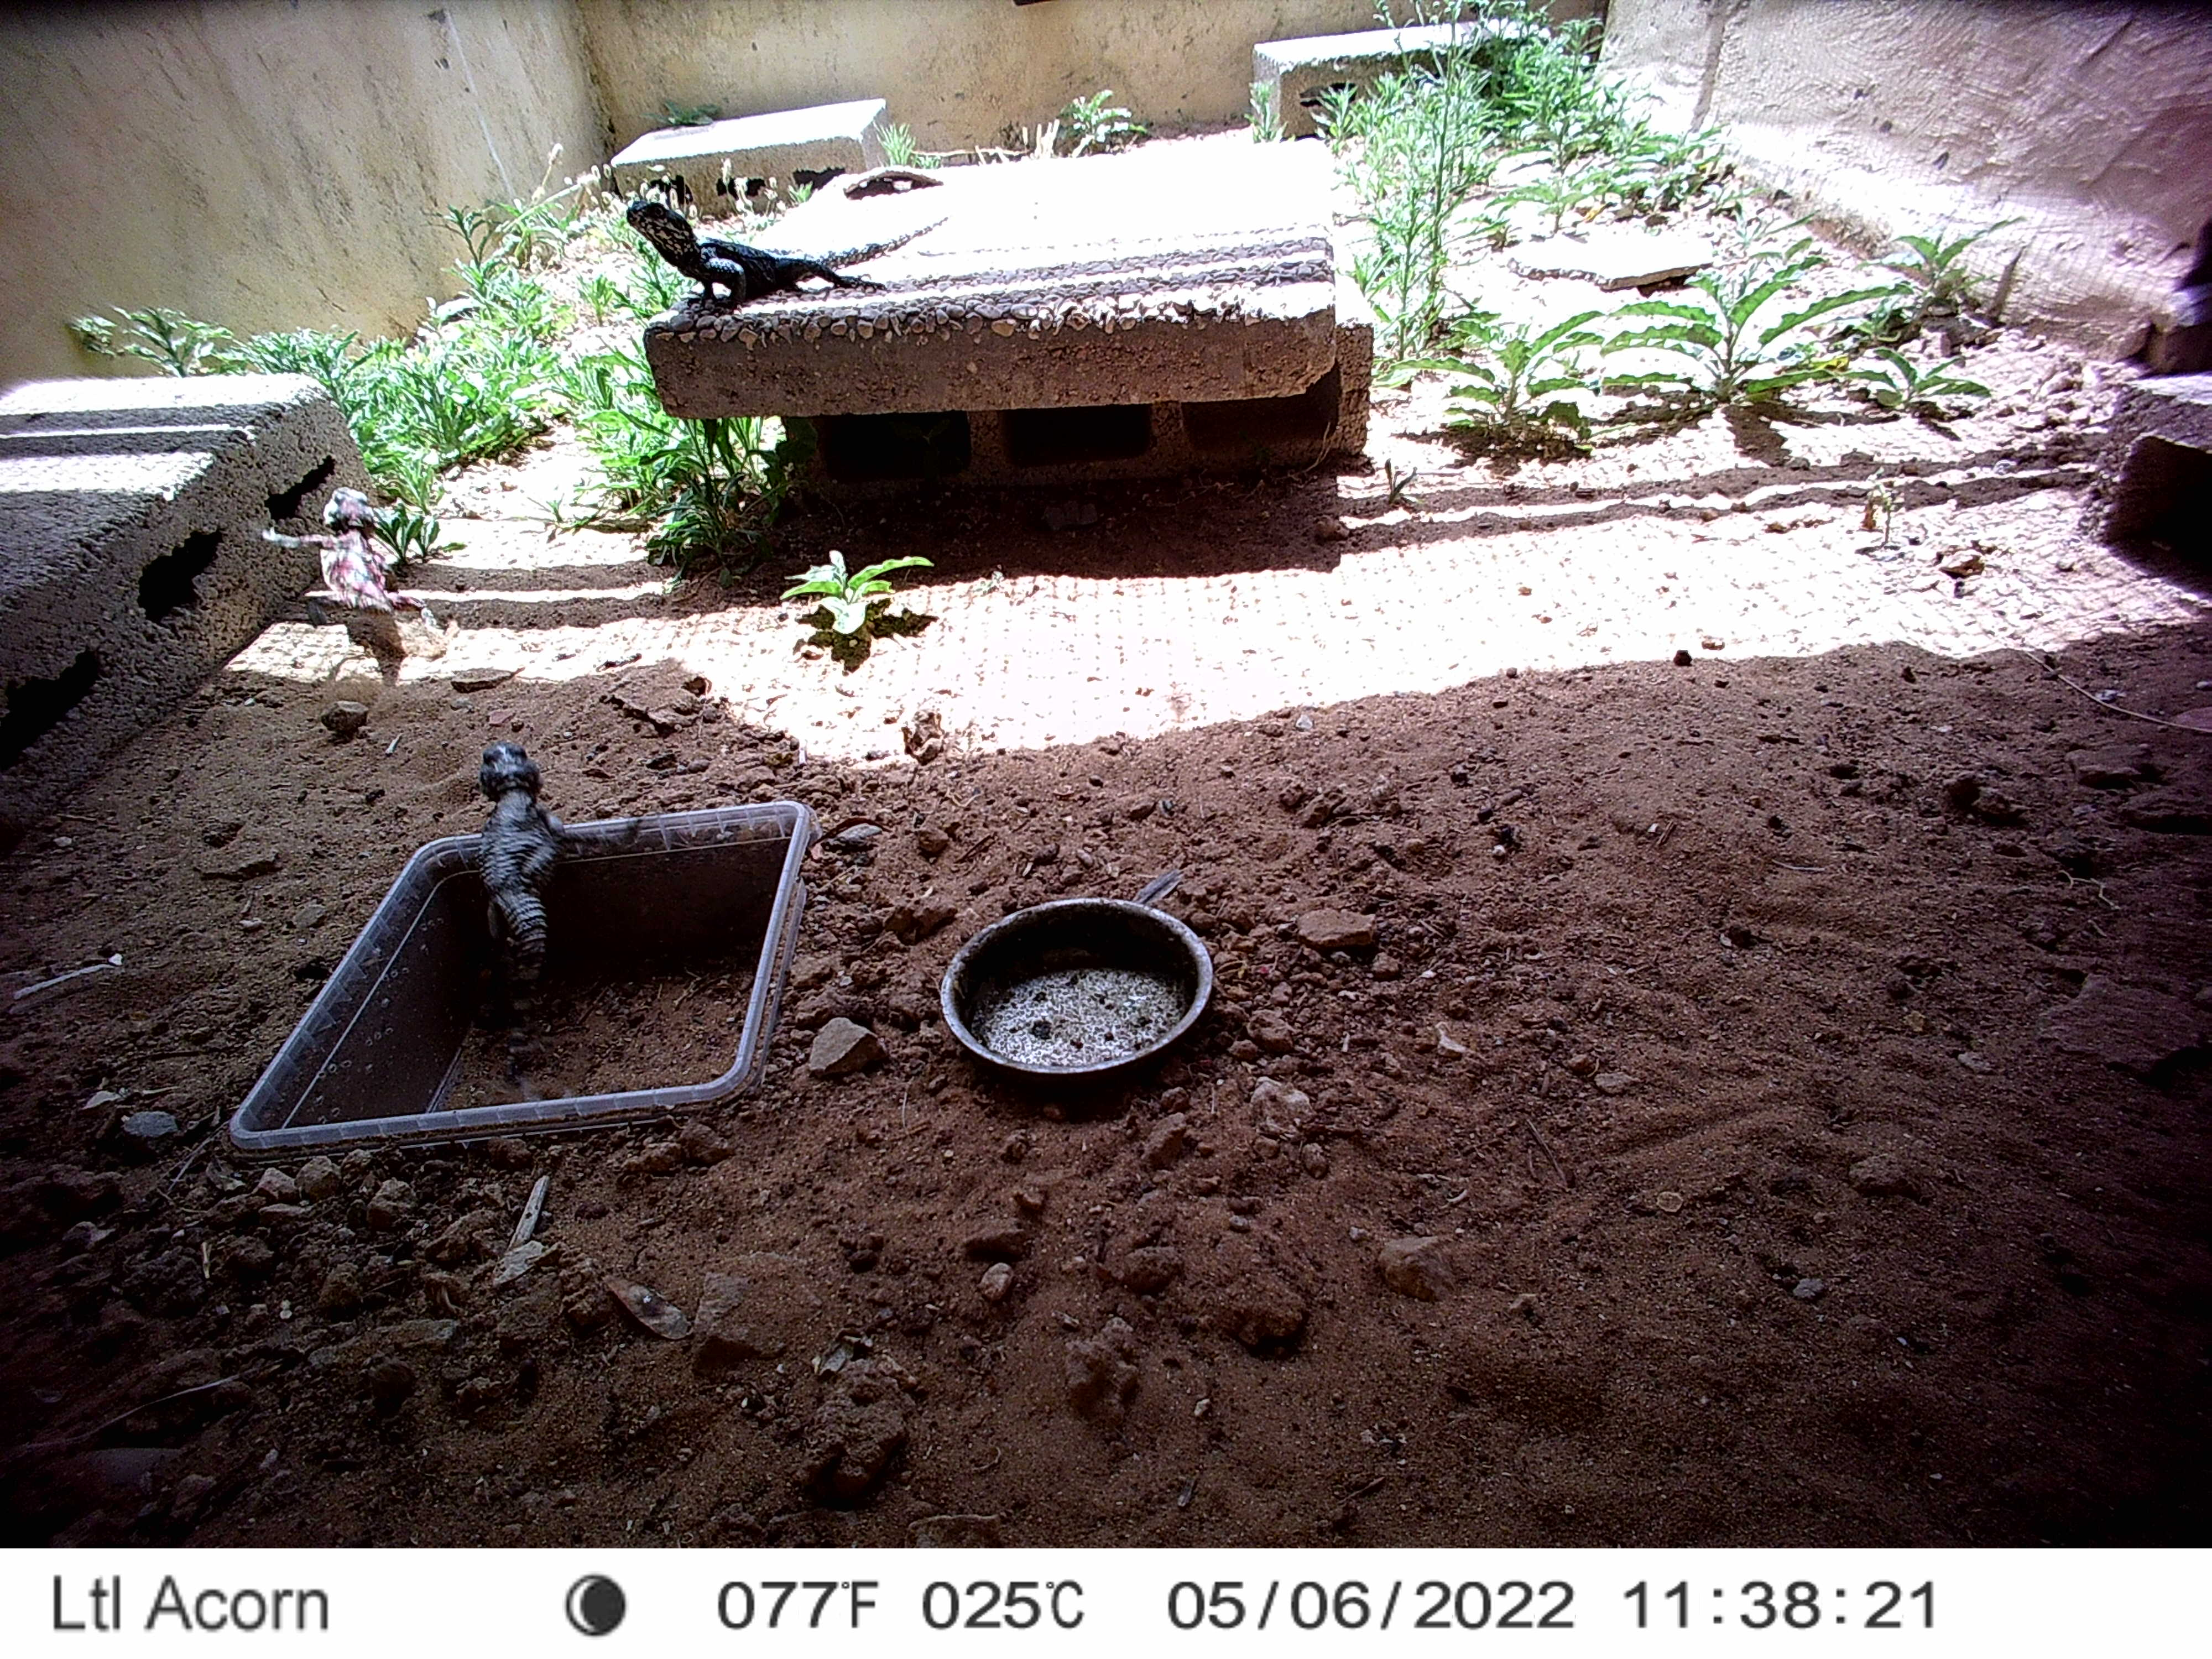lizard: (465, 742, 611, 1051), (625, 200, 946, 305), (263, 484, 446, 653)
